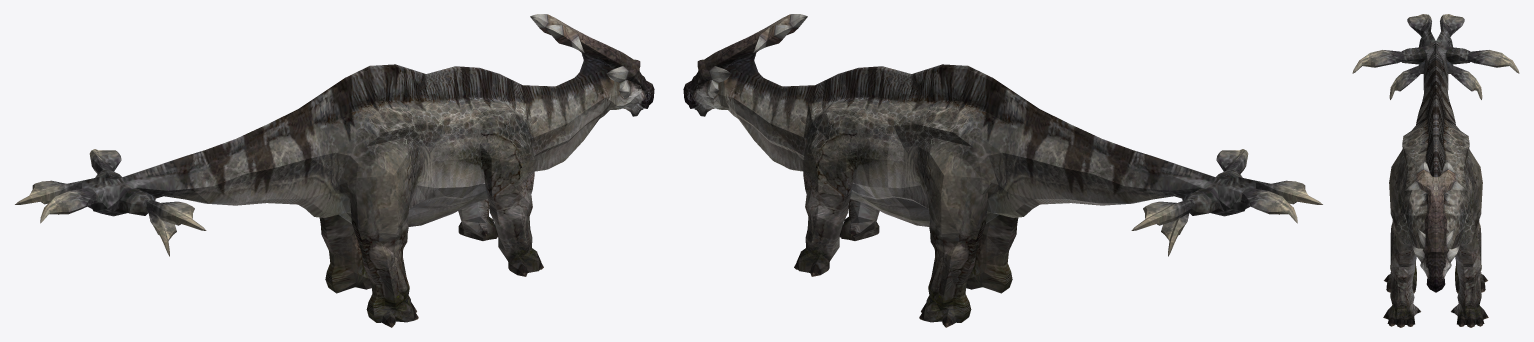
Rendered from Aptanoth.glb.
3 views of the same model, side by side, from view 1: azimuth 30°, elevation 25°; view 2: azimuth 150°, elevation 25°; view 3: azimuth 270°, elevation 25° (orthographic). The views are drawn at different scales.
Visible parts, largest first — view 1: m027_BM_01_Mesh; view 2: m027_BM_01_Mesh; view 3: m027_BM_01_Mesh.
Boxes of the visible parts, x1,y1,x2,y2 form: m027_BM_01_Mesh: (15,14,654,327); m027_BM_01_Mesh: (683,14,1322,327); m027_BM_01_Mesh: (1352,14,1519,327).
Size of the model in its own units: 10.23 by 3.72 by 2.98.
1 material, 1 textured.
